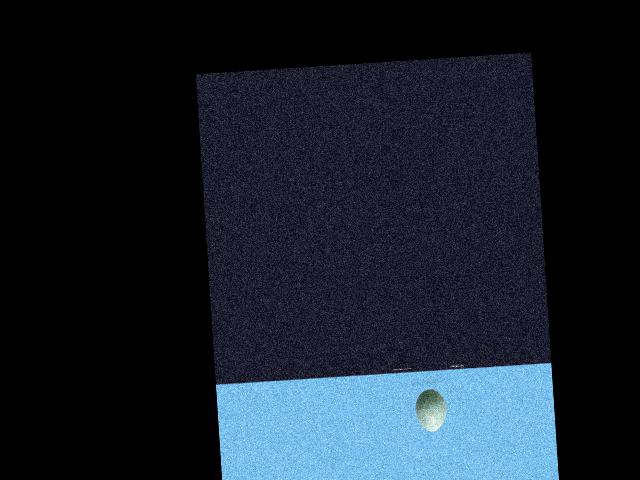egg: (413, 388, 447, 432)
